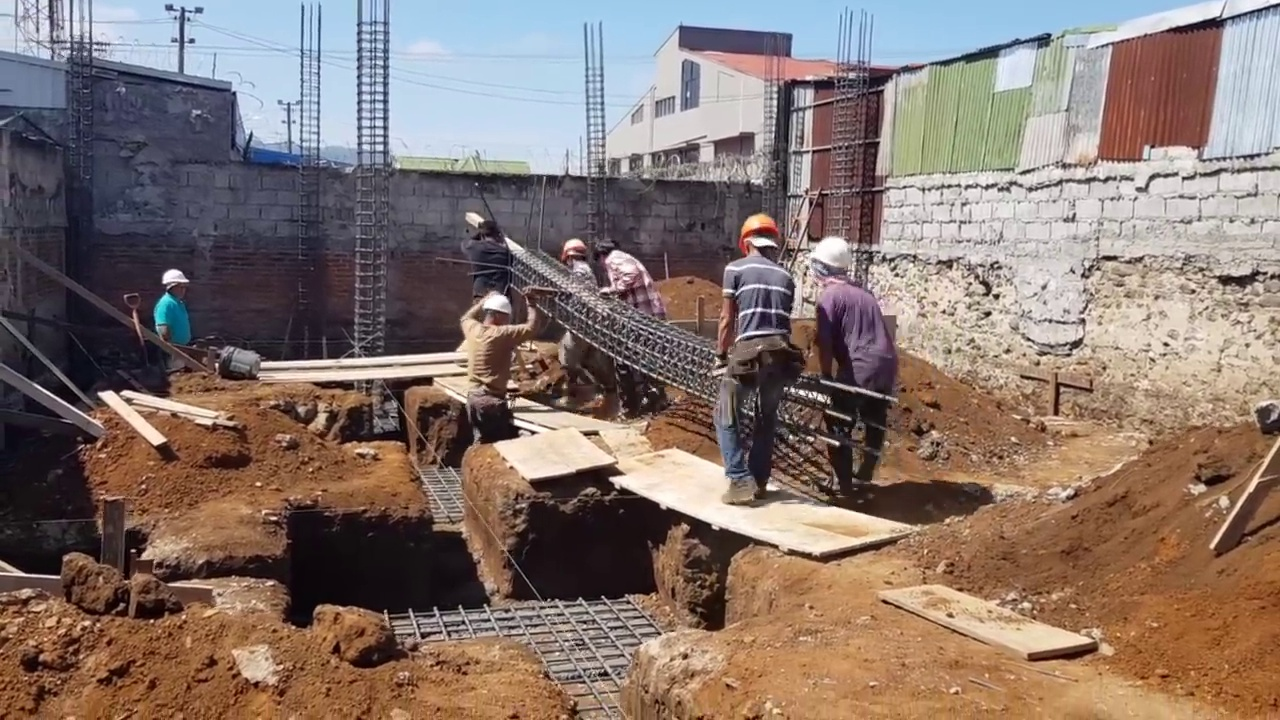helmet: (737, 212, 781, 254), (811, 235, 855, 268), (559, 238, 588, 263), (483, 293, 514, 316), (160, 269, 191, 288)
helmet-off: (594, 236, 621, 272), (476, 220, 502, 247)
helmet-on: (737, 210, 782, 264), (809, 235, 855, 285), (481, 292, 514, 332), (160, 267, 191, 302), (558, 238, 589, 269)
person: (718, 210, 812, 514), (797, 232, 893, 514), (593, 235, 668, 415), (458, 294, 544, 443), (558, 237, 603, 412), (461, 220, 512, 300), (154, 268, 192, 345)
